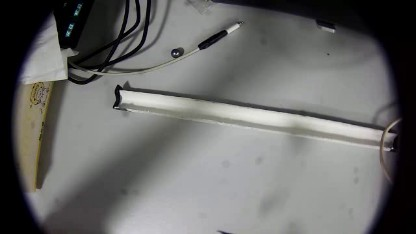gangzhu: (168, 48, 179, 57)
